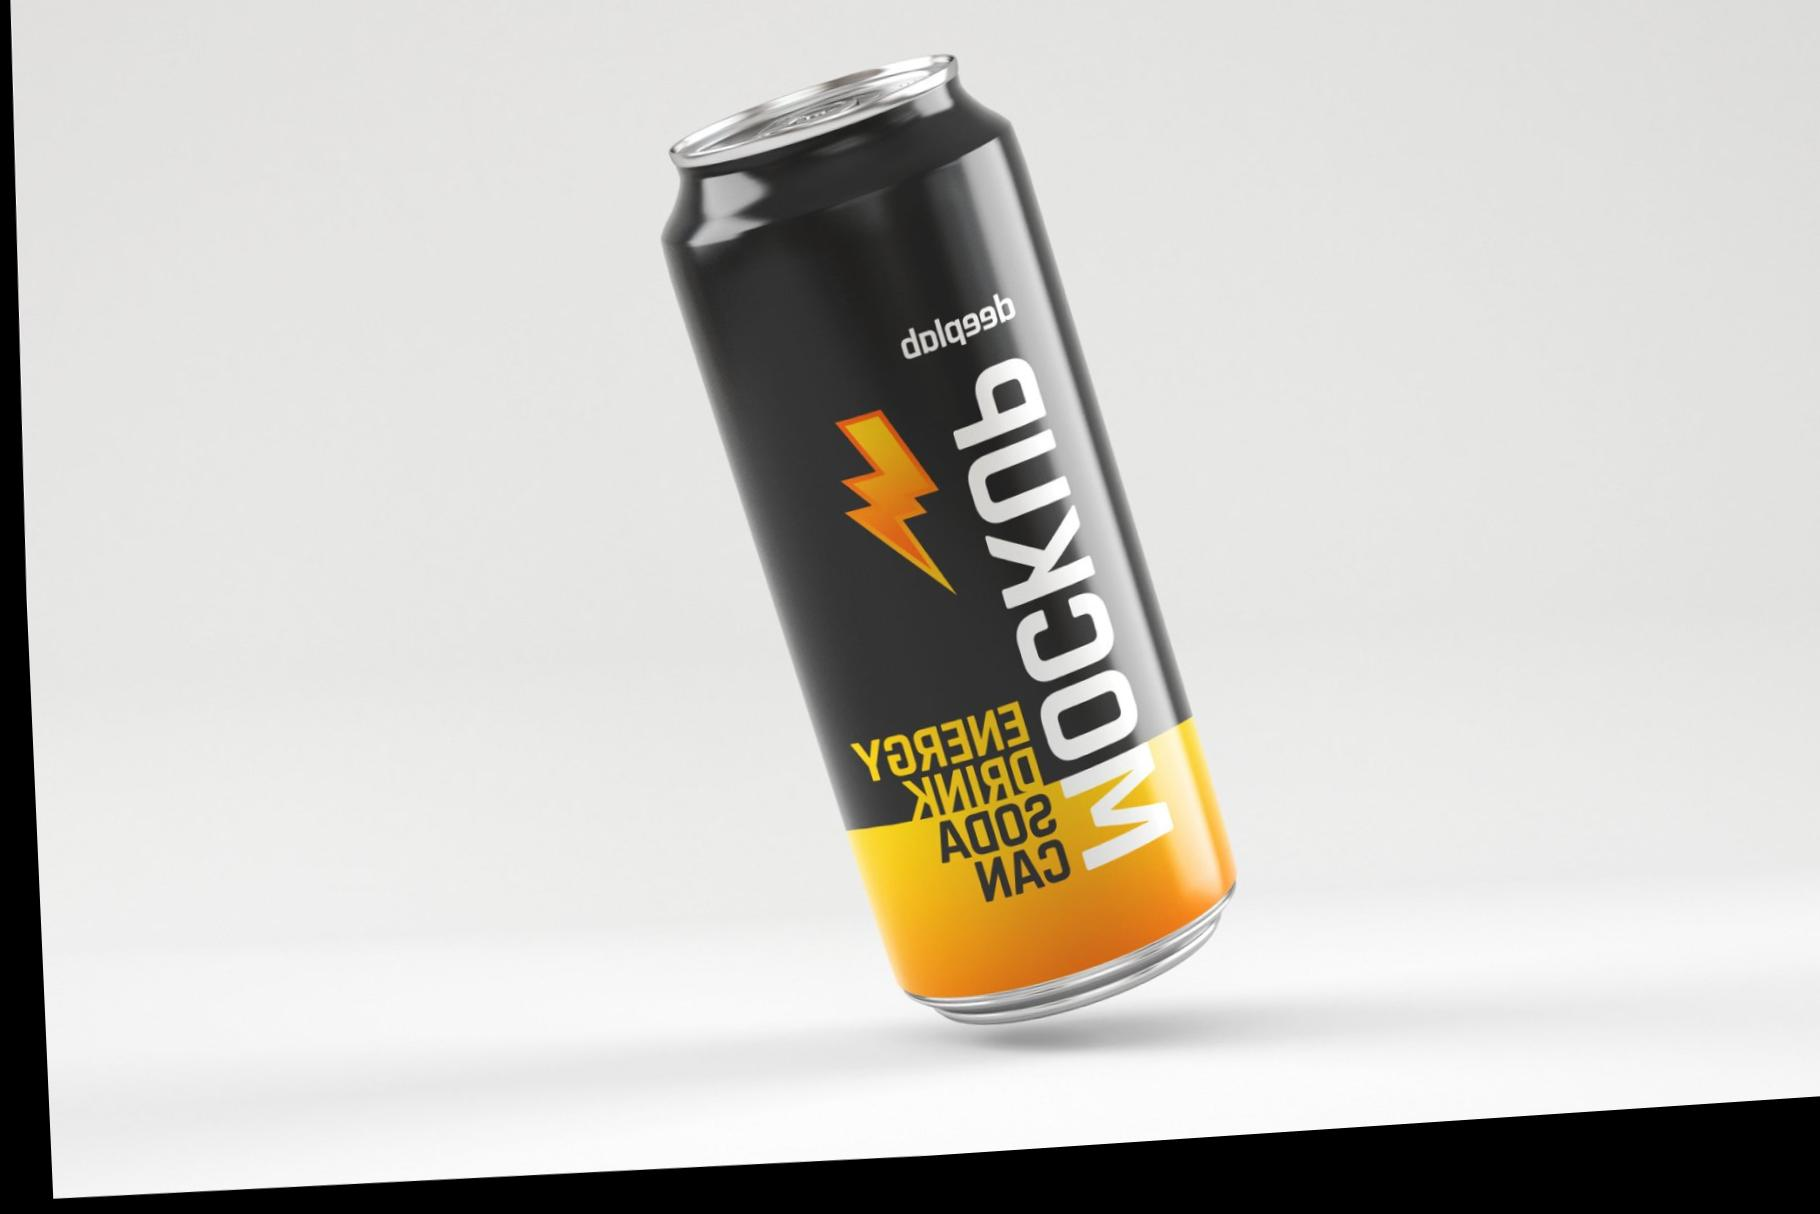metal: (666, 57, 1234, 1019)
